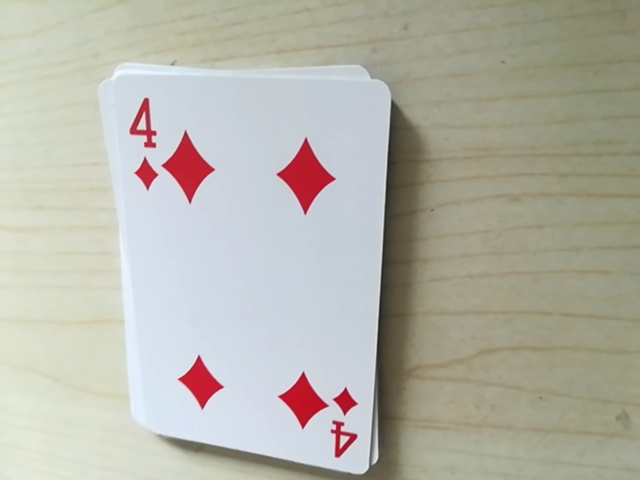fk 4: (120, 86, 175, 207), (318, 388, 364, 464)
